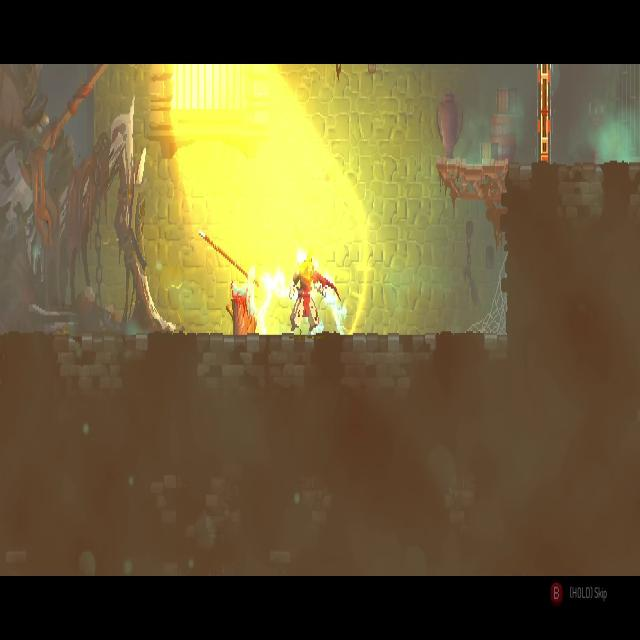agents: (286, 247, 338, 334)
door_regular: (538, 65, 552, 164)
wood_floor: (433, 154, 508, 210)
